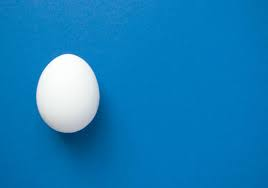eggs: (42, 54, 100, 133)
